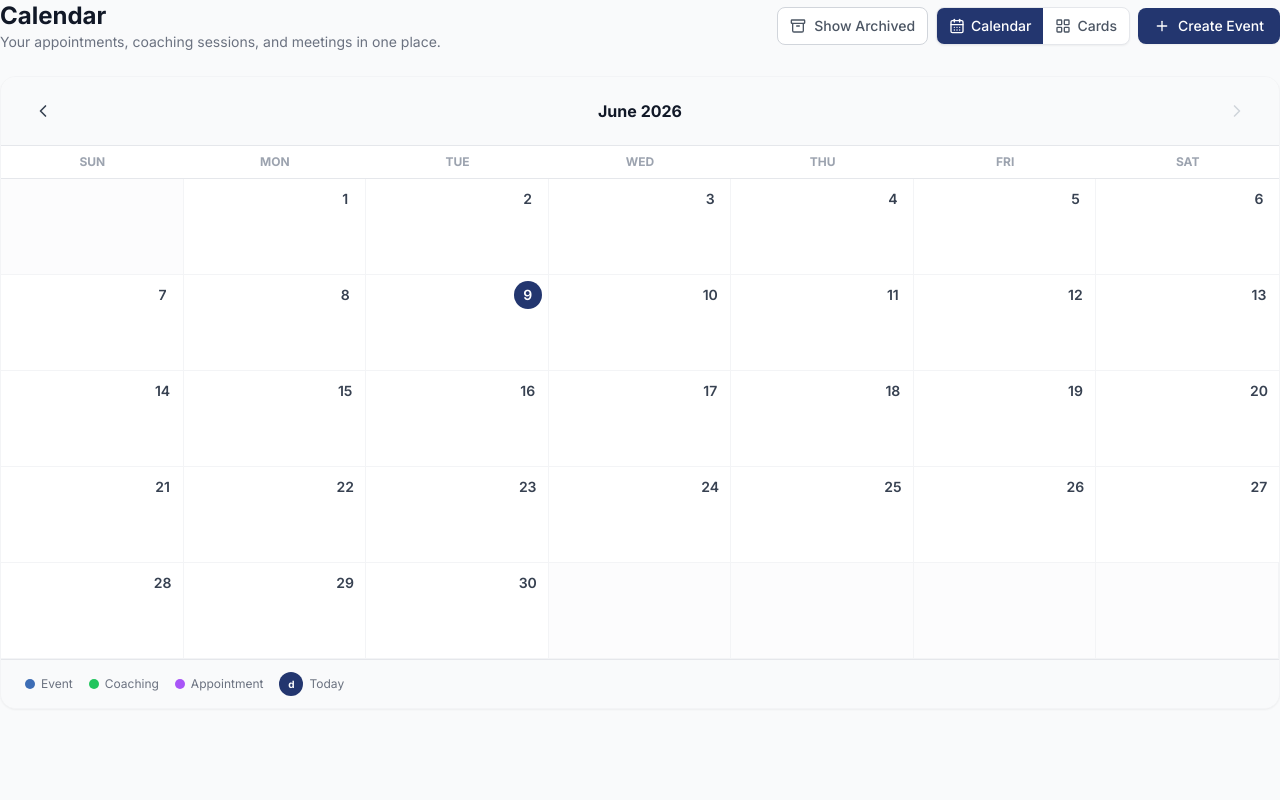
Test case: MyCalendar — Create Event Audience section › shows all groups in Audience section for admin
Click the button "Create Event": click(1209, 26) [1138, 8, 1279, 44]
(page scrolled)
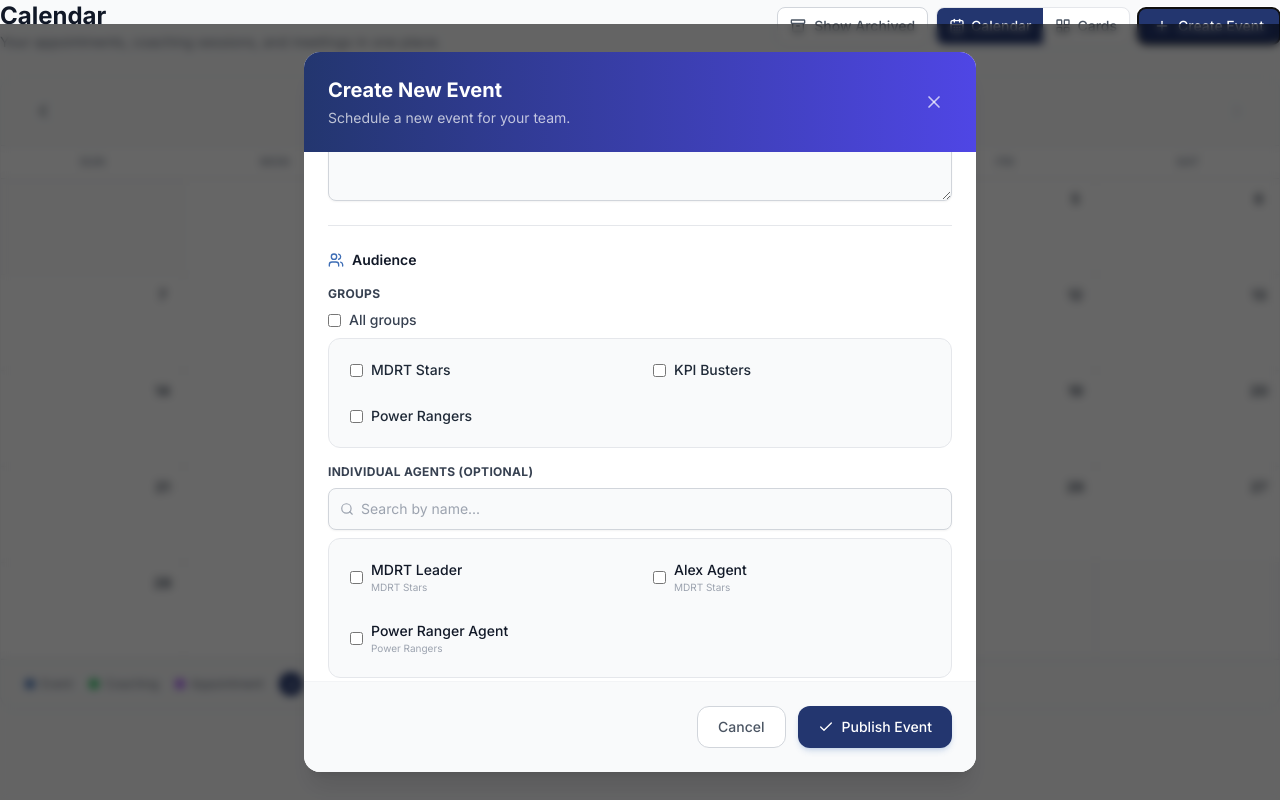
Check: the text "MDRT Stars" in the row of "KPI Busters" is shown, box [371, 361, 451, 378]
Check: the text "KPI Busters" is shown, box [674, 360, 751, 380]
Check: the text "Power Rangers" below "KPI Busters" is shown, box [371, 407, 472, 424]
